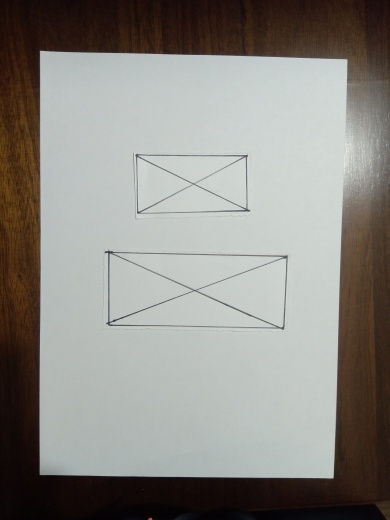img: (106, 252, 285, 323), (138, 154, 249, 212)
